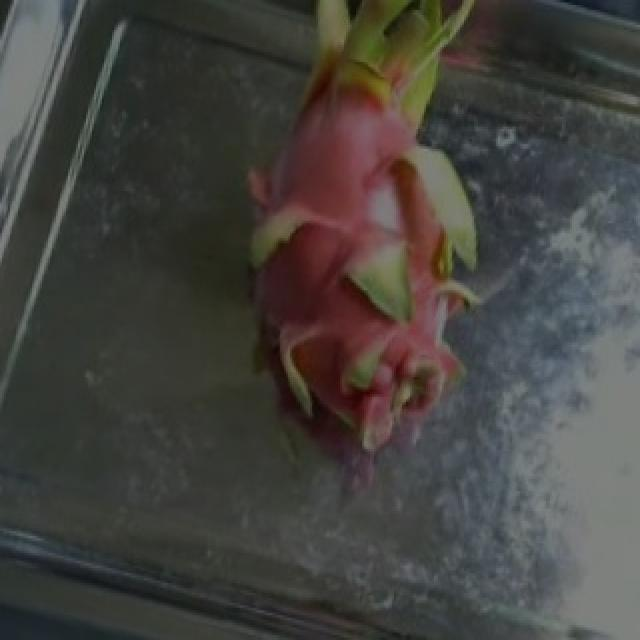fruit: (160, 3, 582, 434)
